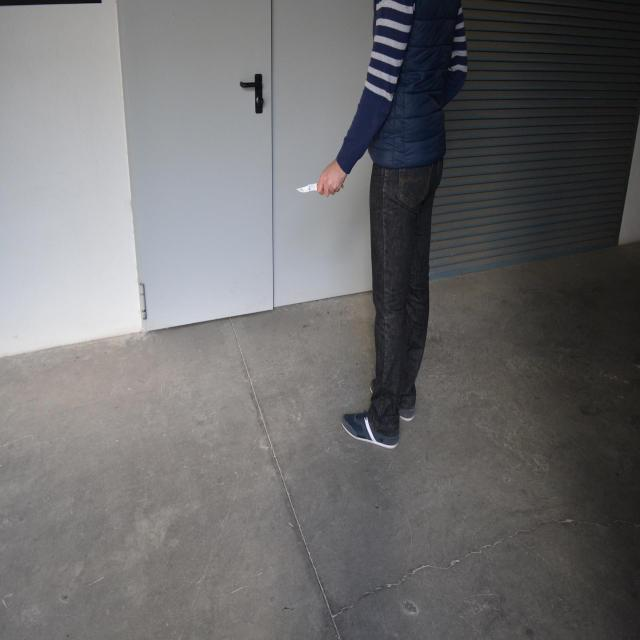Knife: (296, 182, 319, 193)
Person: (320, 0, 468, 448)
